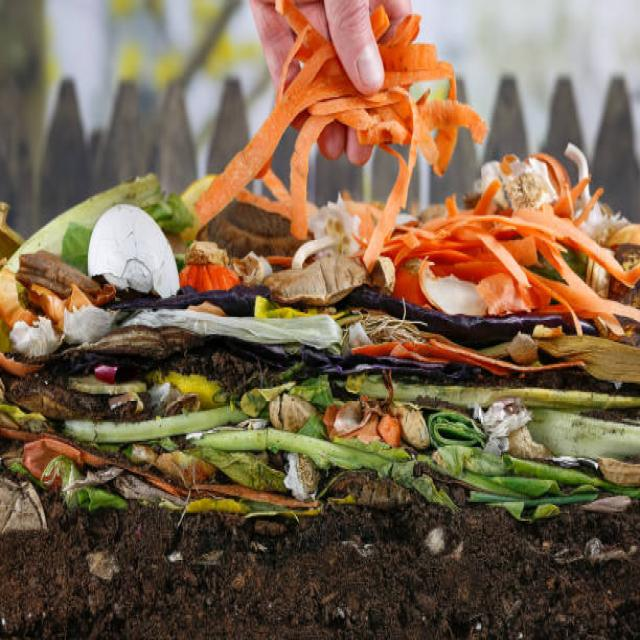Organic: (0, 2, 640, 531)
